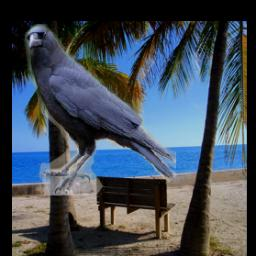Crow: (22, 25, 176, 196)
